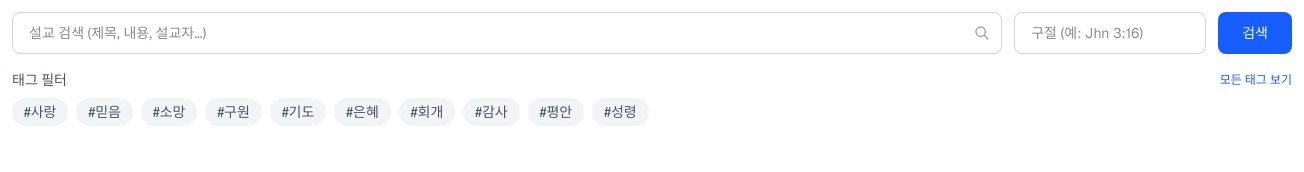
SermonSearch › tag filters › shows all tags when toggle clicked
The width and height of the screenshot is (1304, 172).
What coordinates should you click on to do the following:
click the button "모든 태그 보기"
I would click on:
 (1256, 80)
Its box is [1220,72,1292,88].
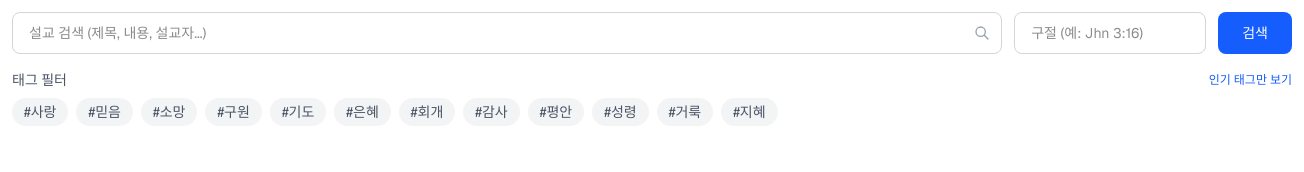
Expected: the button "#거룩" is shown, [657,98,713,126]
Expected: the button "#지혜" is shown, [721,98,778,126]
Expected: the button "인기 태그만 보기" is shown, [1209,72,1292,88]
